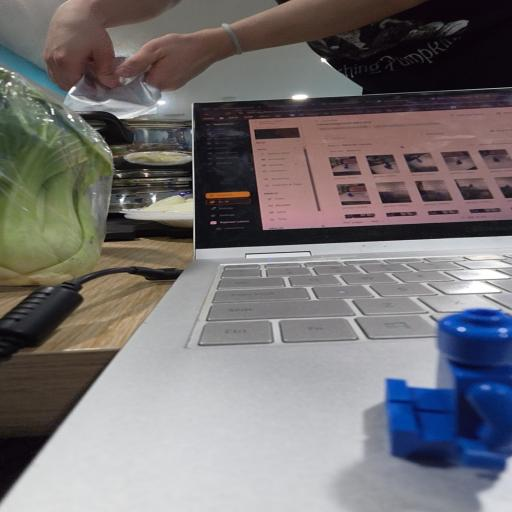Blue: (386, 308, 512, 471)
